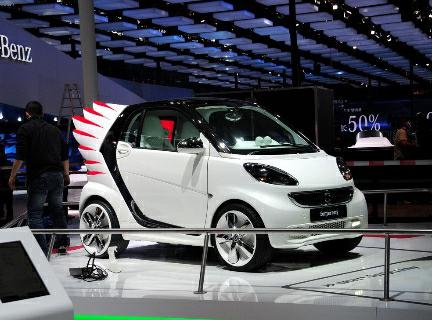smart-forjeremy: (66, 94, 379, 253)
